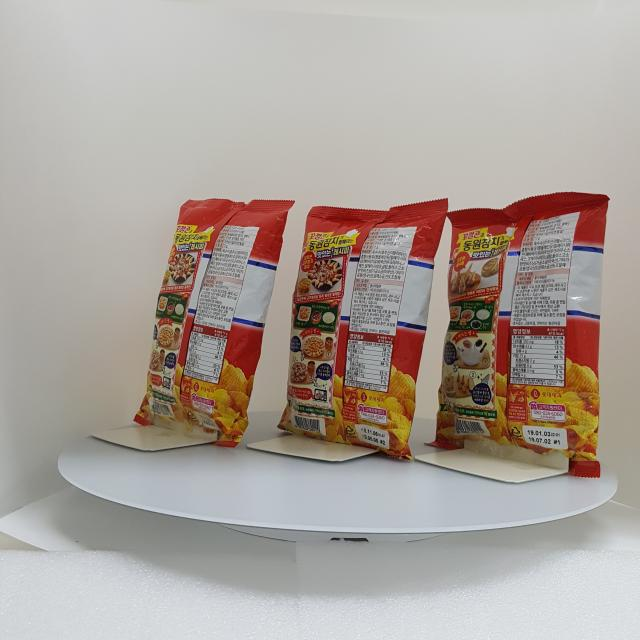-72G: (424, 192, 611, 479), (277, 199, 449, 461), (134, 199, 296, 449)
